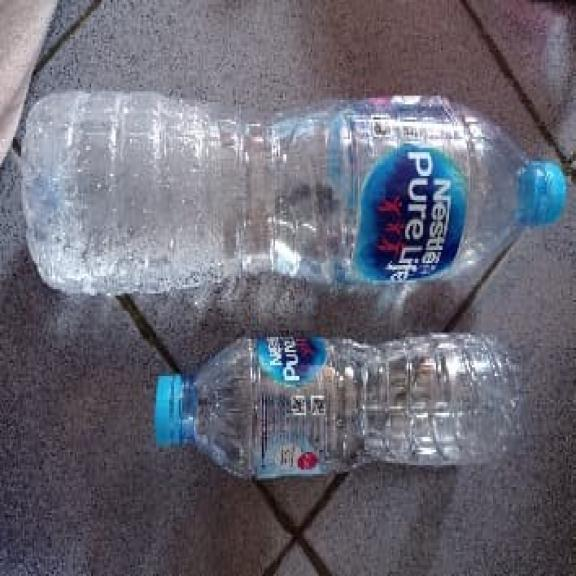Plastik: (23, 93, 567, 294), (156, 334, 523, 479)
